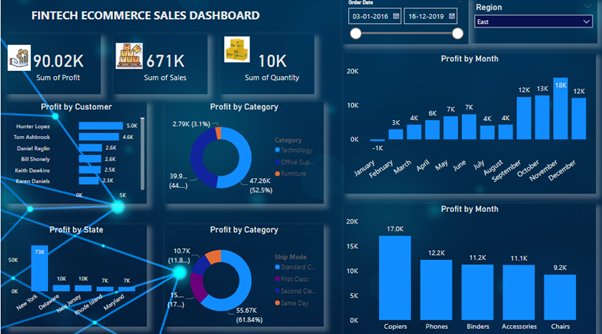

The dashboard page shown, as its layout file describes it:
{"tool":"powerbi","page":{"name":"Page 1","canvas":[1280,720],"ordinal":0},"visuals":[{"type":"textbox","box":[39.7,17,535.7,49.6],"z":0},{"type":"columnChart","title":" Profit by Month","fields":{"Category":["Orders.Order Date.Variation.Date Hierarchy.Year","Orders.Order Date.Variation.Date Hierarchy.Quarter","Orders.Order Date.Variation.Date Hierarchy.Month","Orders.Order Date.Variation.Date Hierarchy.Day"],"Y":["Sum(Orders.Profit)"]},"box":[728.5,120.5,535.7,297.6],"z":1000},{"type":"columnChart","title":" Profit by Month","fields":{"Y":["Sum(Orders.Profit)"],"Category":["Orders.Sub-Category"]},"box":[728.5,439.4,535.7,280.6],"z":2000},{"type":"card","fields":{"Values":["Sum(Orders.Profit)"]},"box":[11.6,80,201.3,127.7],"z":3000},{"type":"card","fields":{"Values":["Sum(Orders.Sales)"]},"box":[240,80,200,127.7],"z":4000},{"type":"card","fields":{"Values":["Sum(Orders.Quantity)"]},"box":[465.8,80,200,127.7],"z":5000},{"type":"slicer","fields":{"Values":["Orders.Order Date"]},"box":[725.5,0,268,99.8],"z":6000},{"type":"slicer","fields":{"Values":["Orders.Region"]},"box":[996.3,5.7,270.8,94.1],"z":7000},{"type":"donutChart","title":"Profit by Category","fields":{"Y":["Sum(Orders.Profit)"],"Category":["Orders.Category"]},"box":[348.7,222.5,337.3,216.9],"z":8000},{"type":"donutChart","title":"Profit by Category","fields":{"Y":["Sum(Orders.Profit)"],"Category":["Orders.Ship Mode"]},"box":[348.7,483.3,337.3,216.9],"z":9000},{"type":"clusteredBarChart","title":" Profit by Customer","fields":{"Y":["Sum(Orders.Profit)"],"Category":["Orders.Customer Name"]},"box":[11.3,222.5,299.1,216.9],"z":10000},{"type":"columnChart","title":"Profit by State","fields":{"Y":["Sum(Orders.Profit)"],"Category":["Orders.State"]},"box":[11.3,483.3,299.1,216.9],"z":11000},{"type":"image","box":[10.3,89,59.4,81.3],"z":12000},{"type":"image","box":[240,89,67.1,72.3],"z":13000},{"type":"image","box":[455.5,80,92.9,64.5],"z":14000}]}

Visuals, with their boxes in screenshot pixels (x1, y1, x2, y2), scaled from the page's 1280x720 canvas onto the 602x334 screenshot:
textbox: (left=19, top=8, right=271, bottom=31)
" Profit by Month" columnChart: (left=343, top=56, right=595, bottom=194)
" Profit by Month" columnChart: (left=343, top=204, right=595, bottom=333)
card - Sum(Orders.Profit): (left=5, top=37, right=100, bottom=96)
card - Sum(Orders.Sales): (left=113, top=37, right=207, bottom=96)
card - Sum(Orders.Quantity): (left=219, top=37, right=313, bottom=96)
slicer - Orders.Order Date: (left=341, top=0, right=467, bottom=46)
slicer - Orders.Region: (left=469, top=3, right=596, bottom=46)
"Profit by Category" donutChart: (left=164, top=103, right=323, bottom=204)
"Profit by Category" donutChart: (left=164, top=224, right=323, bottom=325)
" Profit by Customer" clusteredBarChart: (left=5, top=103, right=146, bottom=204)
"Profit by State" columnChart: (left=5, top=224, right=146, bottom=325)
image: (left=5, top=41, right=33, bottom=79)
image: (left=113, top=41, right=144, bottom=75)
image: (left=214, top=37, right=258, bottom=67)
